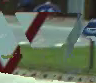Give way: (0, 3, 53, 76)
